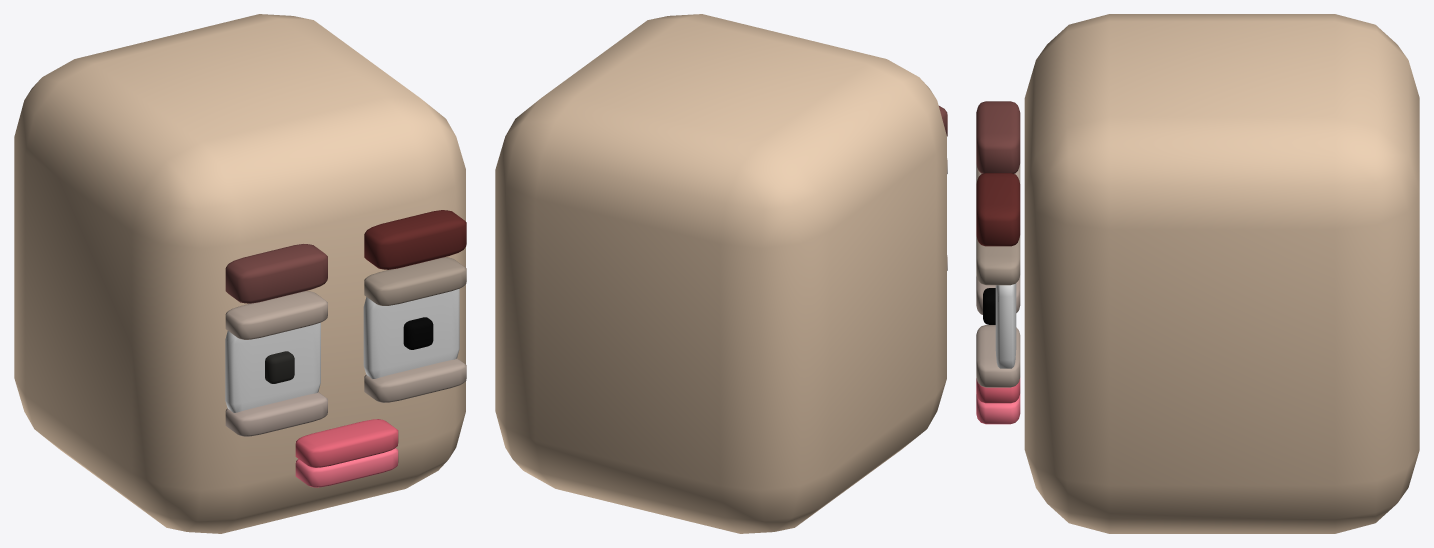
File: RobotMesh.glb
The picture shows the model from 3 angles, left to right: view 1: azimuth 30°, elevation 25°; view 2: azimuth 150°, elevation 25°; view 3: azimuth 270°, elevation 25°; orthographic projection. The views are drawn at different scales.
Visible parts, largest first — view 1: RobotMesh; view 2: RobotMesh; view 3: RobotMesh.
Part boxes in pixels (x1,y1,x2,y2): RobotMesh: (14, 14, 466, 533); RobotMesh: (495, 14, 947, 533); RobotMesh: (976, 14, 1419, 533).
Bounding box in the file's own units: 0.7 × 0.8 × 0.7859.
